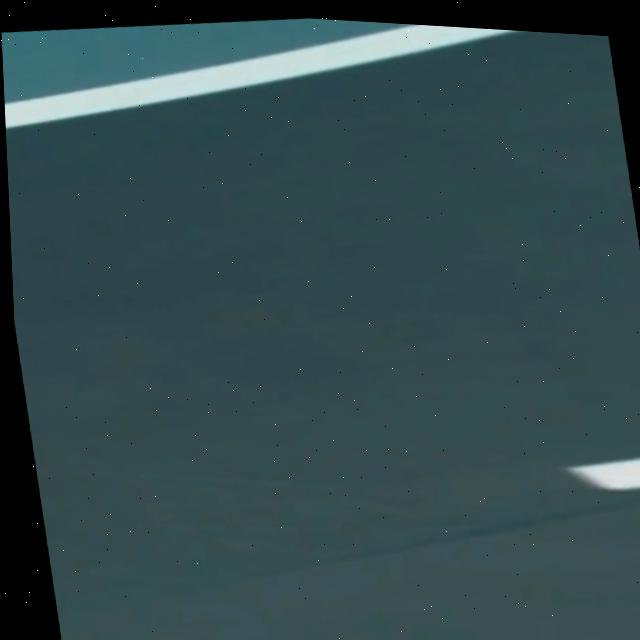center: (566, 457, 640, 489)
left: (5, 24, 514, 127)
